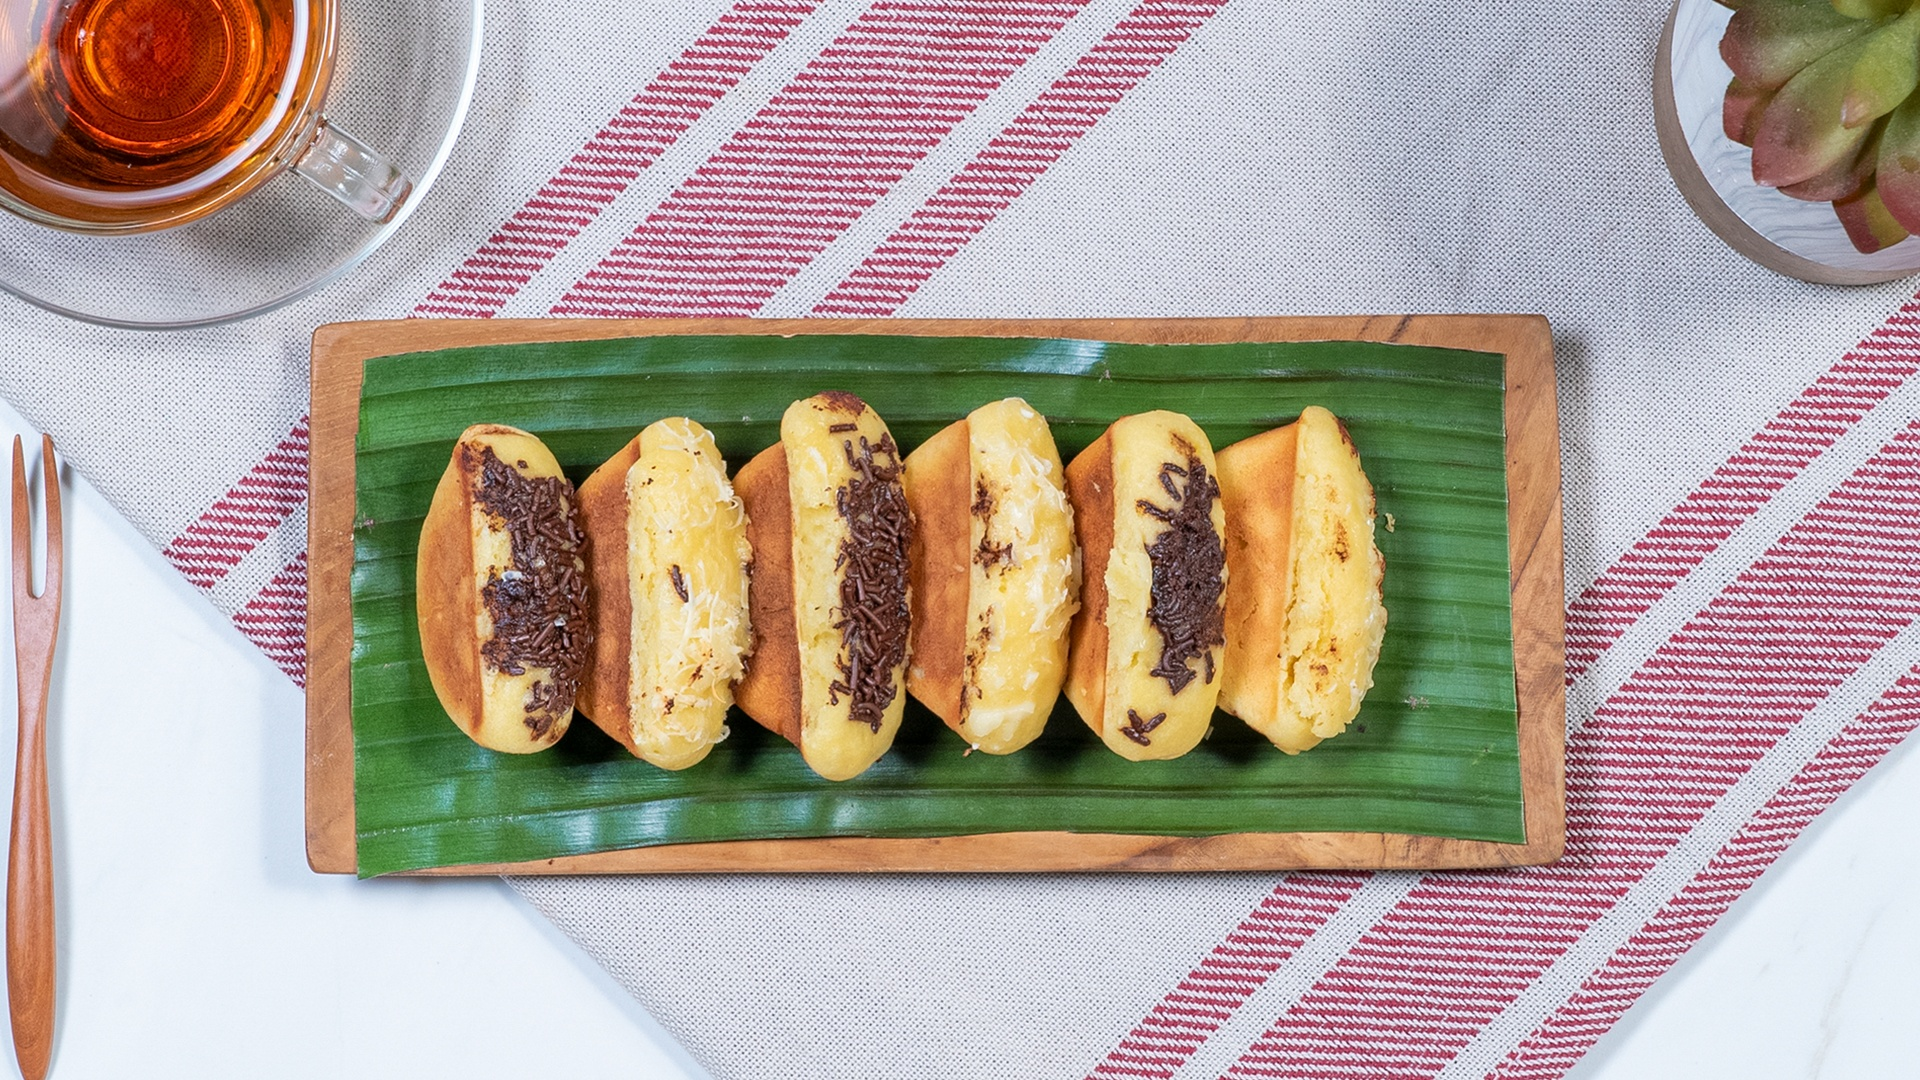pukis: (398, 421, 600, 802)
